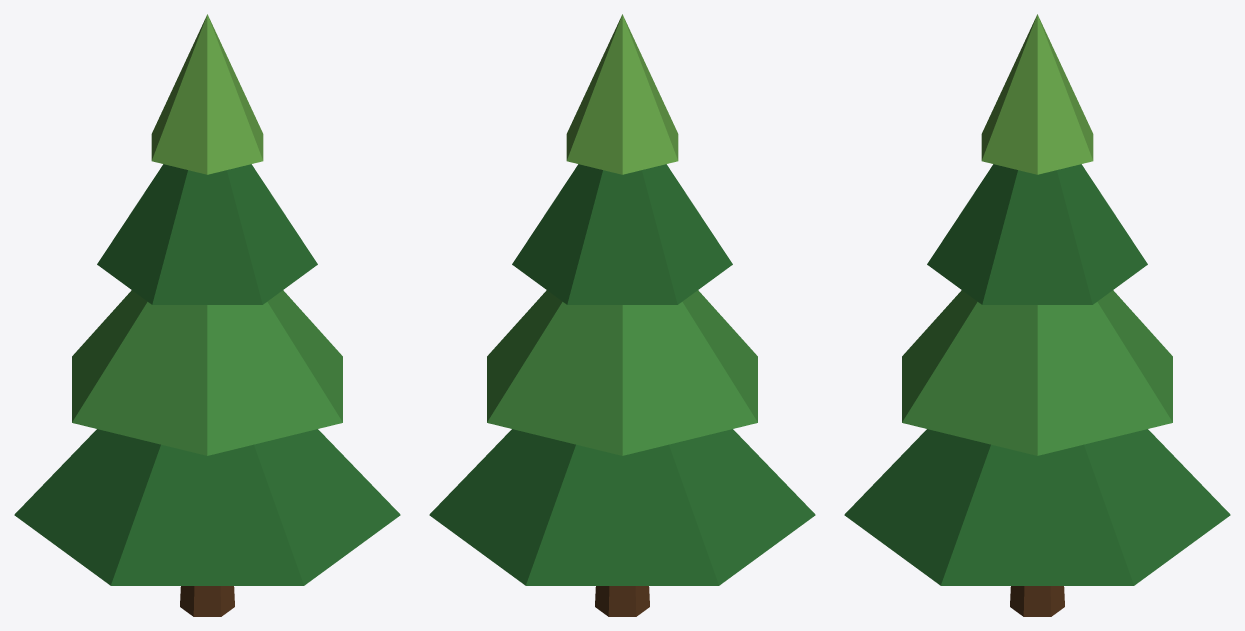
The model's file is TreePine.fbx.
3 renders of one model, left to right at view 1: azimuth 30°, elevation 25°; view 2: azimuth 150°, elevation 25°; view 3: azimuth 270°, elevation 25°, orthographic.
Visible parts, largest first — view 1: TreePine; view 2: TreePine; view 3: TreePine.
Boxes of the visible parts, bbox=[...] form: TreePine: bbox=[14, 14, 400, 616]; TreePine: bbox=[429, 14, 815, 616]; TreePine: bbox=[844, 14, 1230, 616].
Bounding box in the file's own units: 1.82 × 3.55 × 2.1.
